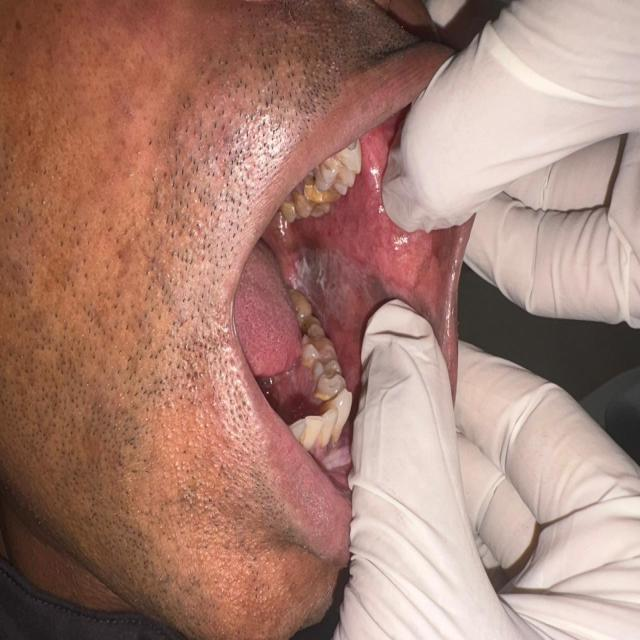leukoplakia-detection: (284, 240, 435, 331)
processing_area: (236, 116, 456, 407)
